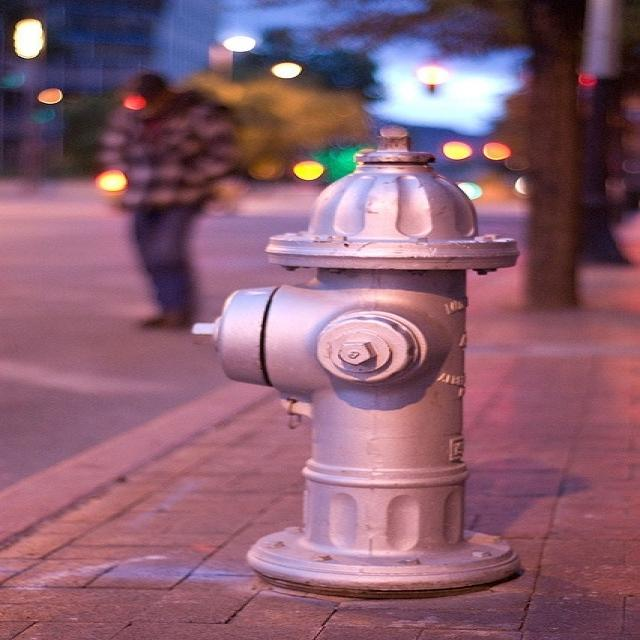fire_hydrant: (206, 133, 489, 601)
